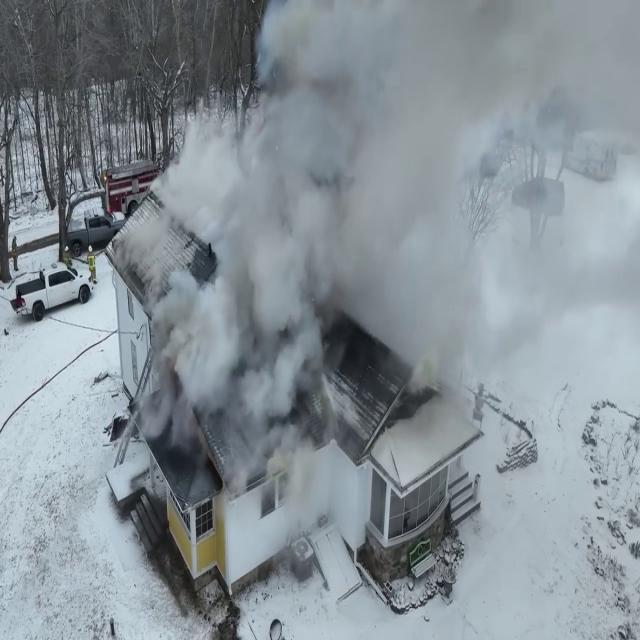Smoke: (150, 0, 622, 518)
